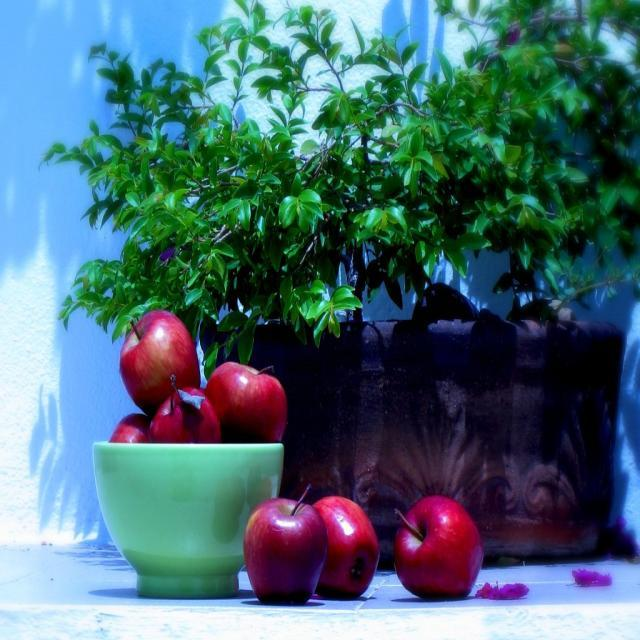Apple pie: (392, 493, 484, 599), (240, 500, 324, 610), (120, 309, 200, 418), (311, 492, 381, 598), (207, 359, 291, 444), (147, 375, 219, 447), (109, 414, 151, 443)
